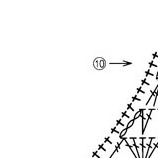enseble_chain: (102, 94, 147, 144), (127, 63, 158, 108), (88, 132, 117, 158), (102, 135, 130, 158), (134, 108, 154, 136), (121, 135, 144, 158), (140, 83, 158, 111), (138, 136, 158, 158), (108, 55, 133, 72), (137, 137, 151, 158), (94, 56, 106, 71), (146, 58, 158, 71)
